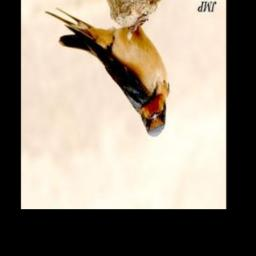Swallow: (45, 0, 171, 139)
